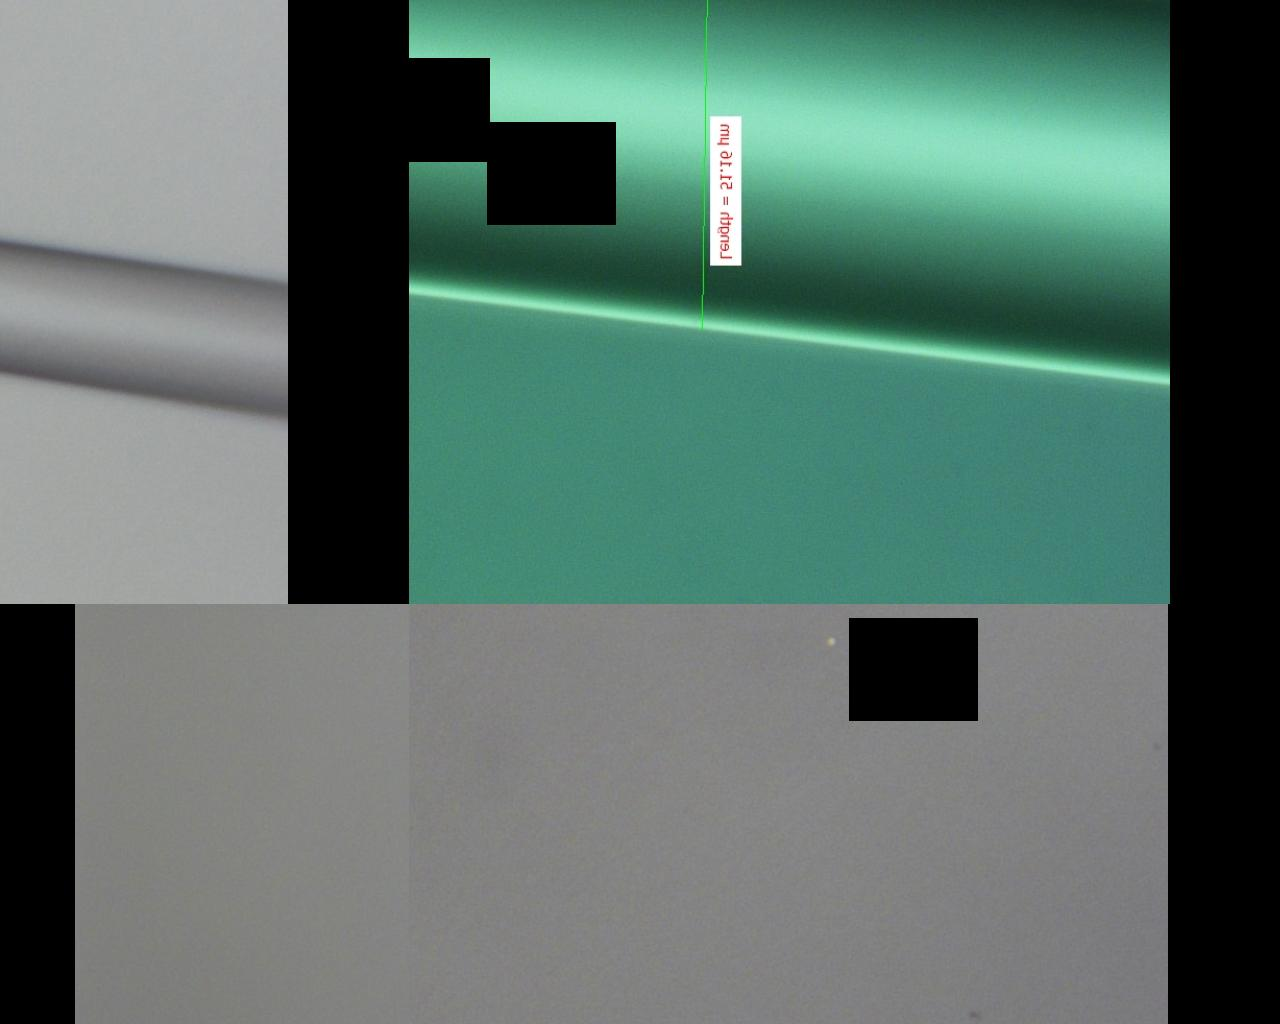fiber: (345, 701, 1231, 1024), (345, 213, 1280, 329)
